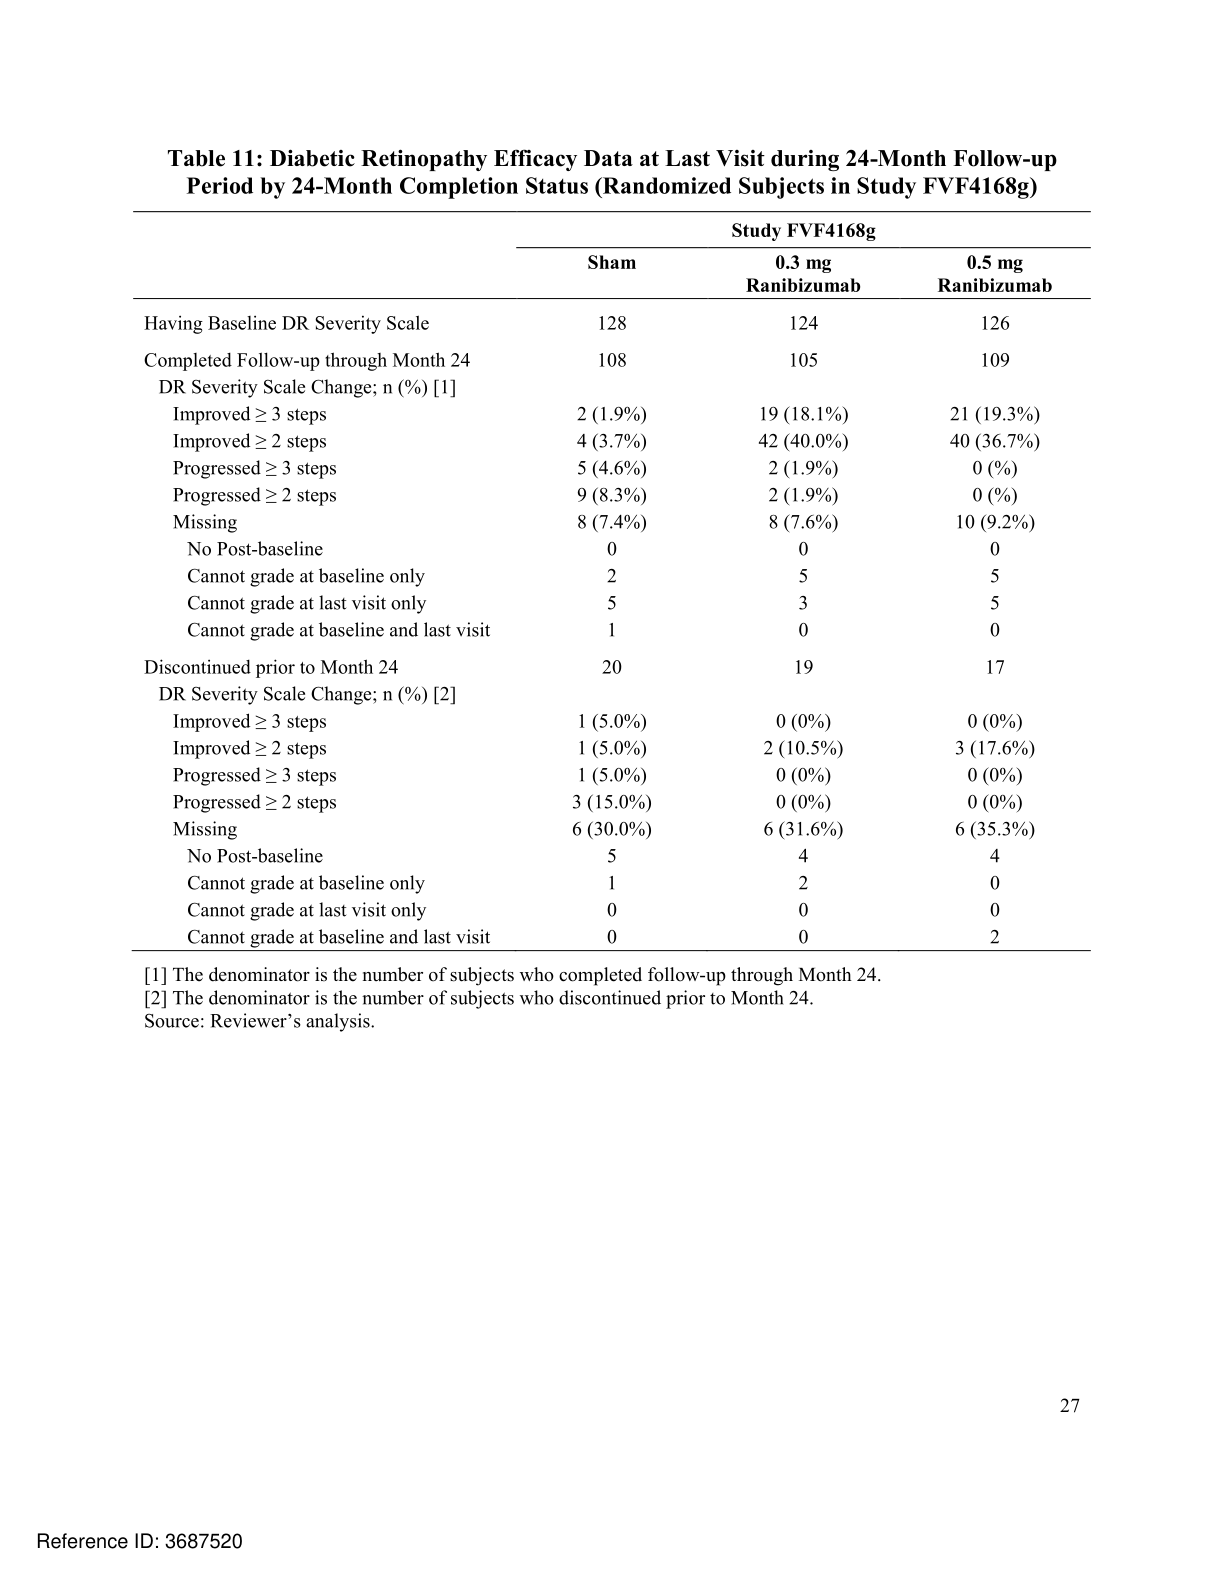partial_lined_merged_cells: (130, 210, 1093, 954)
